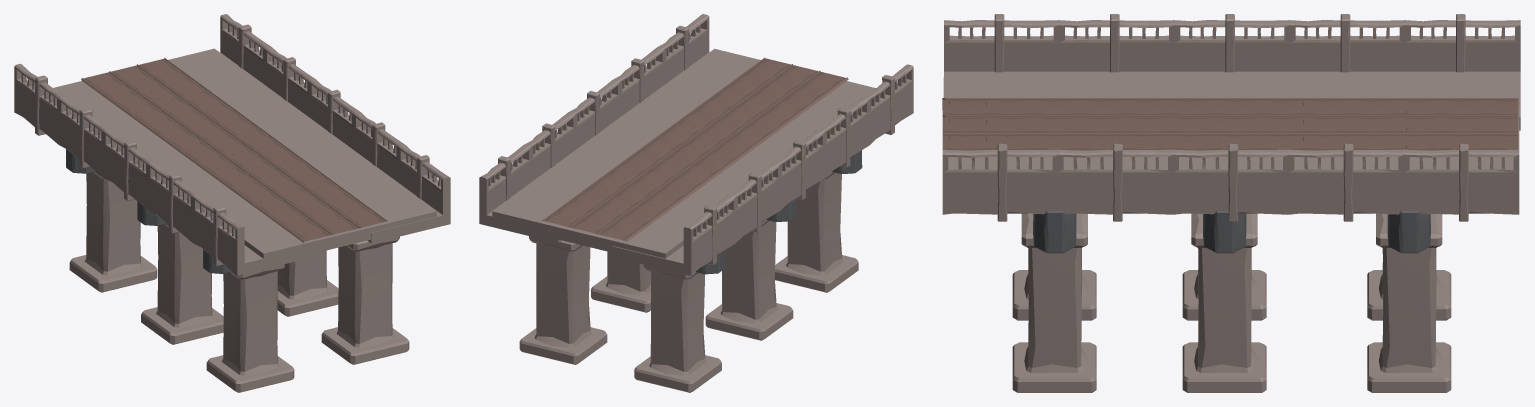
File: Bridge.fbx
The picture shows the model from 3 angles, left to right: view 1: azimuth 30°, elevation 25°; view 2: azimuth 150°, elevation 25°; view 3: azimuth 270°, elevation 25°; orthographic projection. The views are drawn at different scales.
Parts seen in each view (by area): view 1: SM_Env_Bridge_Underside_01, SM_Env_Path_Straight_01.001, SM_Env_Bridge_Edge_01, SM_Env_Bridge_Edge_01.001, SM_Env_Bridge_Pillar_01.005, SM_Env_Bridge_Pillar_01.004, SM_Env_Bridge_Pillar_01, SM_Env_Bridge_Pillar_01.002, SM_Env_Bridge_Pillar_01.003, SM_Env_Bridge_Support_01.001; view 2: SM_Env_Path_Straight_01.001, SM_Env_Bridge_Underside_01, SM_Env_Bridge_Edge_01, SM_Env_Bridge_Edge_01.001, SM_Env_Bridge_Pillar_01.001, SM_Env_Bridge_Pillar_01, SM_Env_Bridge_Pillar_01.002, SM_Env_Bridge_Pillar_01.004, SM_Env_Bridge_Pillar_01.003, SM_Env_Bridge_Support_01.001; view 3: SM_Env_Bridge_Edge_01.001, SM_Env_Bridge_Edge_01, SM_Env_Path_Straight_01.001, SM_Env_Bridge_Underside_01, SM_Env_Bridge_Pillar_01.005, SM_Env_Bridge_Pillar_01.003, SM_Env_Bridge_Pillar_01.001, SM_Env_Bridge_Support_01, SM_Env_Bridge_Support_01.002, SM_Env_Bridge_Pillar_01.002, SM_Env_Bridge_Support_01.001, SM_Env_Bridge_Pillar_01.004 (+1 smaller).
Part boxes in pixels (x1,y1,x2,y2): SM_Env_Bridge_Underside_01: (53,48,436,265); SM_Env_Path_Straight_01.001: (81,57,387,242); SM_Env_Bridge_Edge_01: (14,63,316,275); SM_Env_Bridge_Edge_01.001: (220,14,450,243); SM_Env_Bridge_Pillar_01.005: (321,236,409,364); SM_Env_Bridge_Pillar_01.004: (206,264,294,392); SM_Env_Bridge_Pillar_01: (69,171,157,292); SM_Env_Bridge_Pillar_01.002: (141,224,223,344); SM_Env_Bridge_Pillar_01.003: (277,250,338,316); SM_Env_Bridge_Support_01.001: (137,201,166,225); SM_Env_Path_Straight_01.001: (542,57,848,241); SM_Env_Bridge_Underside_01: (492,48,880,258); SM_Env_Bridge_Edge_01: (612,64,913,275); SM_Env_Bridge_Edge_01.001: (479,14,709,242); SM_Env_Bridge_Pillar_01.001: (519,236,607,364); SM_Env_Bridge_Pillar_01: (634,264,721,392); SM_Env_Bridge_Pillar_01.002: (705,220,793,340); SM_Env_Bridge_Pillar_01.004: (774,172,858,292); SM_Env_Bridge_Pillar_01.003: (591,251,650,312); SM_Env_Bridge_Support_01.001: (766,199,796,221); SM_Env_Bridge_Edge_01.001: (942,143,1519,221); SM_Env_Bridge_Edge_01: (944,14,1520,130); SM_Env_Path_Straight_01.001: (942,98,1518,150); SM_Env_Bridge_Underside_01: (943,76,1519,165); SM_Env_Bridge_Pillar_01.005: (1012,213,1096,392); SM_Env_Bridge_Pillar_01.003: (1182,213,1266,392); SM_Env_Bridge_Pillar_01.001: (1367,213,1451,392); SM_Env_Bridge_Support_01: (1387,211,1430,253); SM_Env_Bridge_Support_01.002: (1033,211,1076,253); SM_Env_Bridge_Pillar_01.002: (1182,270,1266,320); SM_Env_Bridge_Support_01.001: (1203,211,1246,253); SM_Env_Bridge_Pillar_01.004: (1012,264,1096,320).
Bounding box in the file's own units: 5590 × 4872 × 10044.
